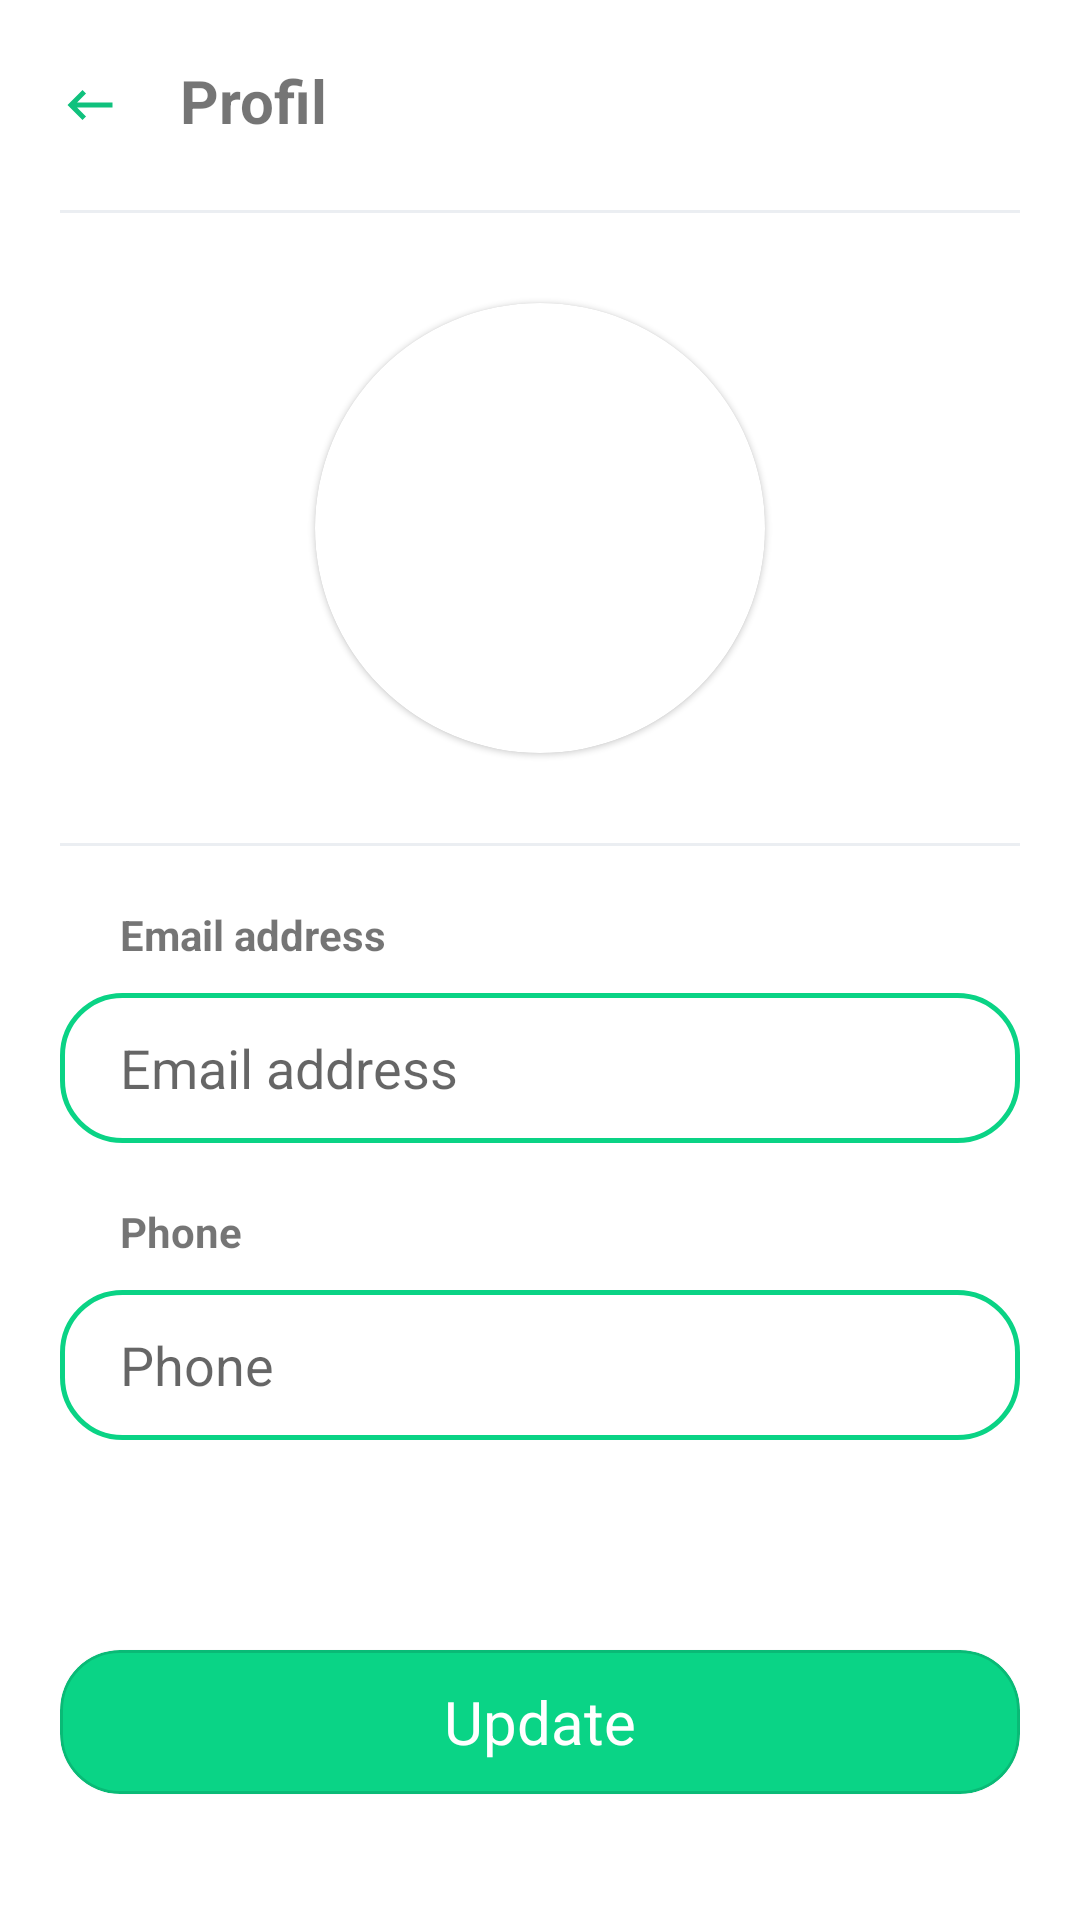

Icon click points for this 1080px x 1920px phone screenshot, format (x,y):
keyboard backspace: (90,105)
